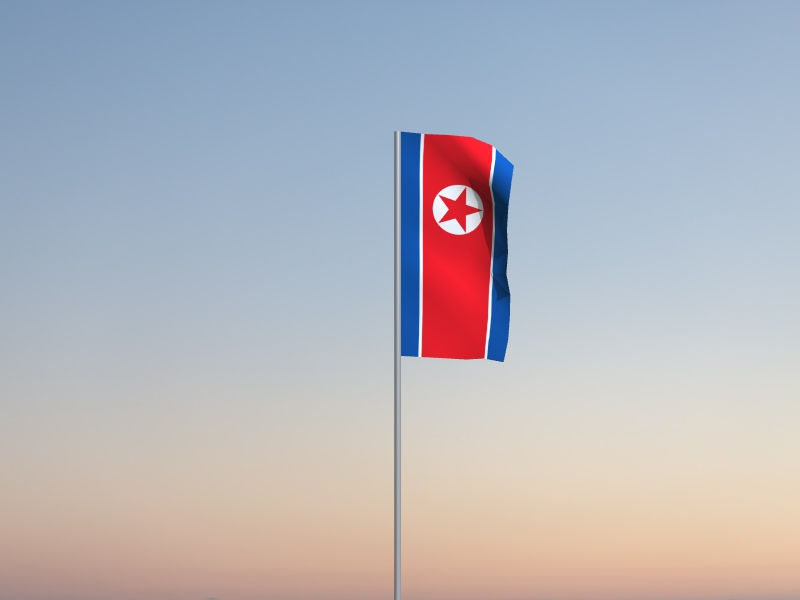kp: (401, 132, 516, 364)
